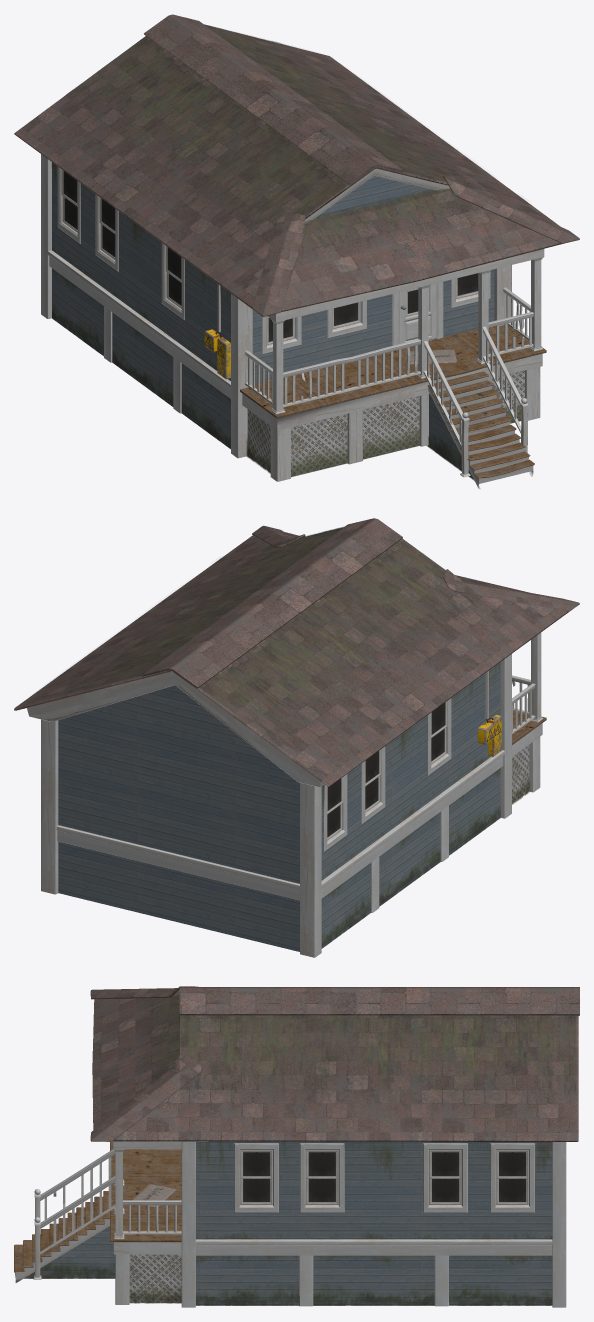
The model's file is lp_americans_house_mobile (1).glb.
3 renders of one model, top to bottom at view 1: azimuth 30°, elevation 25°; view 2: azimuth 150°, elevation 25°; view 3: azimuth 270°, elevation 25°, orthographic. The views are drawn at different scales.
Parts seen in each view (by area): view 1: LPHouse_MHousRoof_0, LPHouseDecals_MHouseDecales_0, LPHouse_MHousWood_0, LPHouse_MHouseWall_0, LPHouse_MHouseWindowsDoorProps_0, LPHouse_MHouseWoodFloor_0, LPHouse_MHouseWoodGrate_0; view 2: LPHouse_MHousRoof_0, LPHouse_MHouseWall_0, LPHouseDecals_MHouseDecales_0, LPHouse_MHousWood_0, LPHouse_MHouseWindowsDoorProps_0, LPHouse_MHouseWoodGrate_0; view 3: LPHouse_MHousRoof_0, LPHouseDecals_MHouseDecales_0, LPHouse_MHouseWall_0, LPHouse_MHousWood_0, LPHouse_MHouseWindowsDoorProps_0, LPHouse_MHouseWoodFloor_0, LPHouse_MHouseWoodGrate_0.
Boxes of the visible parts, bbox=[...] form: LPHouse_MHousRoof_0: bbox=[14, 14, 579, 316]; LPHouseDecals_MHouseDecales_0: bbox=[49, 24, 520, 480]; LPHouse_MHousWood_0: bbox=[41, 154, 544, 489]; LPHouse_MHouseWall_0: bbox=[52, 162, 494, 479]; LPHouse_MHouseWindowsDoorProps_0: bbox=[57, 166, 490, 379]; LPHouse_MHouseWoodFloor_0: bbox=[240, 325, 546, 478]; LPHouse_MHouseWoodGrate_0: bbox=[247, 370, 524, 476]; LPHouse_MHousRoof_0: bbox=[14, 518, 579, 786]; LPHouse_MHouseWall_0: bbox=[58, 662, 500, 951]; LPHouseDecals_MHouseDecales_0: bbox=[64, 526, 530, 948]; LPHouse_MHousWood_0: bbox=[27, 632, 543, 957]; LPHouse_MHouseWindowsDoorProps_0: bbox=[324, 670, 501, 851]; LPHouse_MHouseWoodGrate_0: bbox=[512, 745, 529, 803]; LPHouse_MHousRoof_0: bbox=[90, 986, 579, 1141]; LPHouseDecals_MHouseDecales_0: bbox=[26, 995, 576, 1305]; LPHouse_MHouseWall_0: bbox=[24, 1141, 552, 1305]; LPHouse_MHousWood_0: bbox=[15, 1141, 566, 1307]; LPHouse_MHouseWindowsDoorProps_0: bbox=[132, 1143, 534, 1212]; LPHouse_MHouseWoodFloor_0: bbox=[14, 1142, 181, 1272]; LPHouse_MHouseWoodGrate_0: bbox=[129, 1254, 181, 1302].
Bounding box in the file's own units: 5.93 × 4.77 × 9.4.
7 materials, 7 textured.
